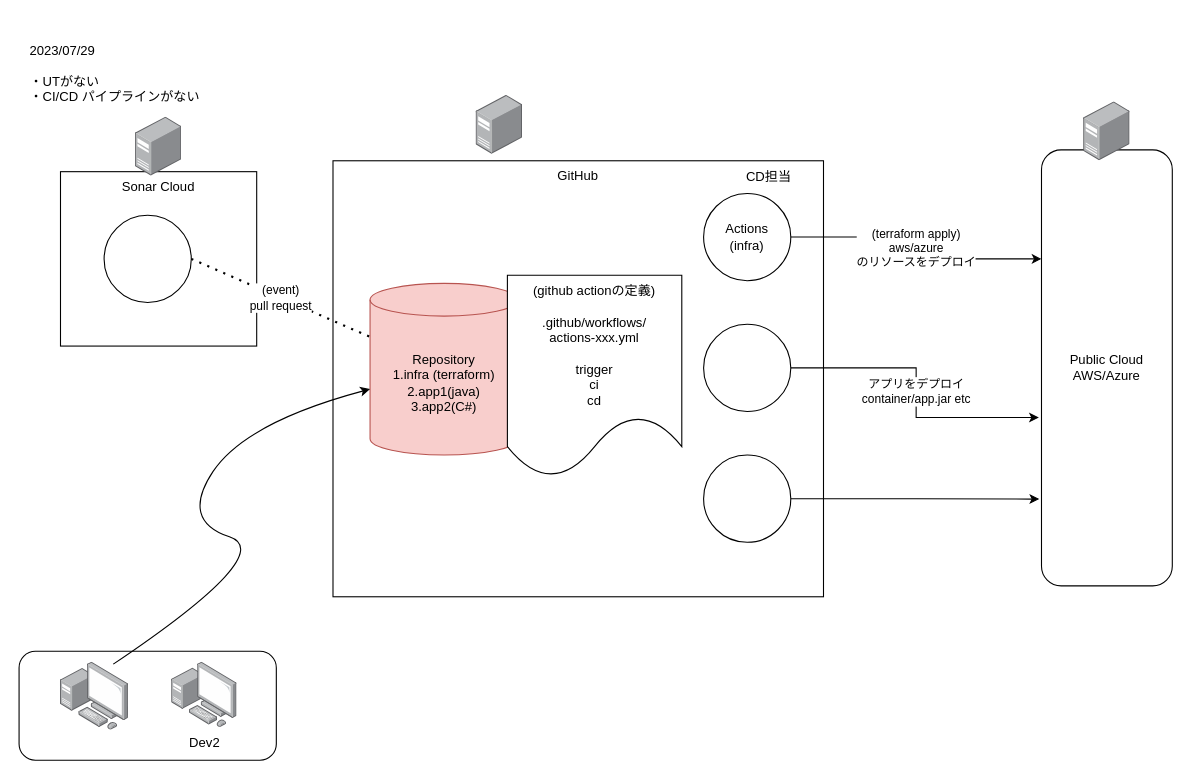
This 1191x779 diagram has some shape labels left out. The centre of each missing label's shape, as x and y in pixels:
Actions (app1): (747,367)
Actions (app2): (747,498)
CIの中の 静的解析担当: (147,258)
Dev1: (94,696)
